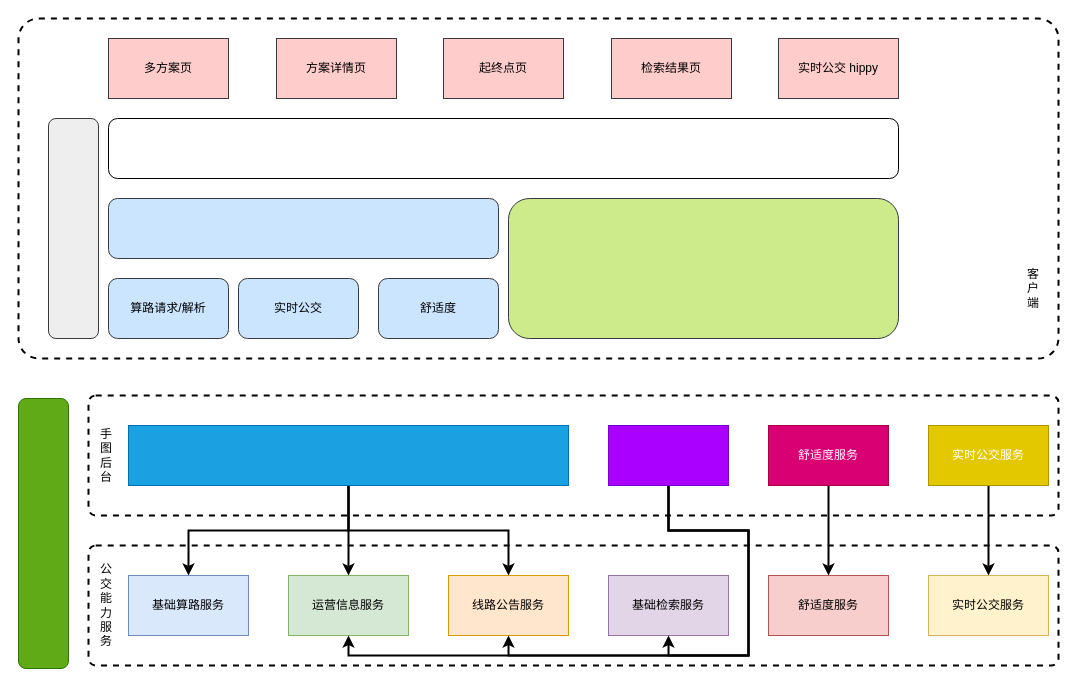
Image size: 1076x686. Some labels were removed from this diagram. Each missing label, with the centre of its shape:
FrameworkAPI: point 503,148
云控配置公告服务: point 43,533
检索接口层: point 703,268
检索服务: point 668,455
算路接口层: point 303,228
算路服务: point 348,455
置顶公告组件: point 73,228
